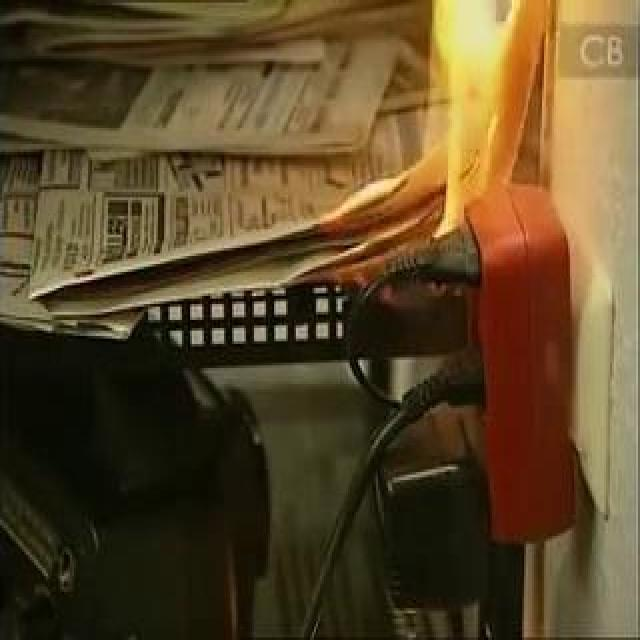Fire: (254, 3, 524, 317)
